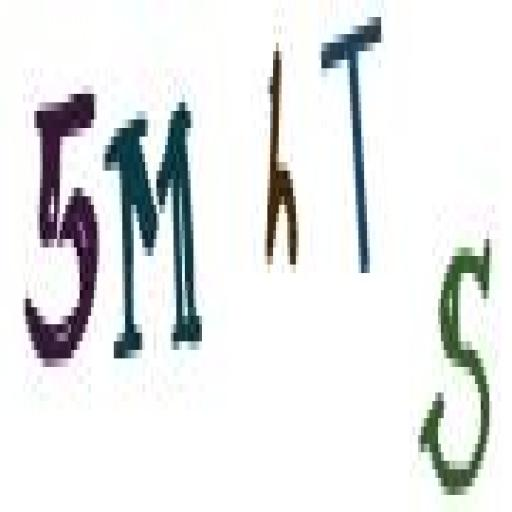5: (23, 72, 102, 386)
M: (101, 92, 206, 379)
T: (322, 4, 392, 286)
h: (263, 21, 303, 282)
s: (419, 219, 505, 512)
